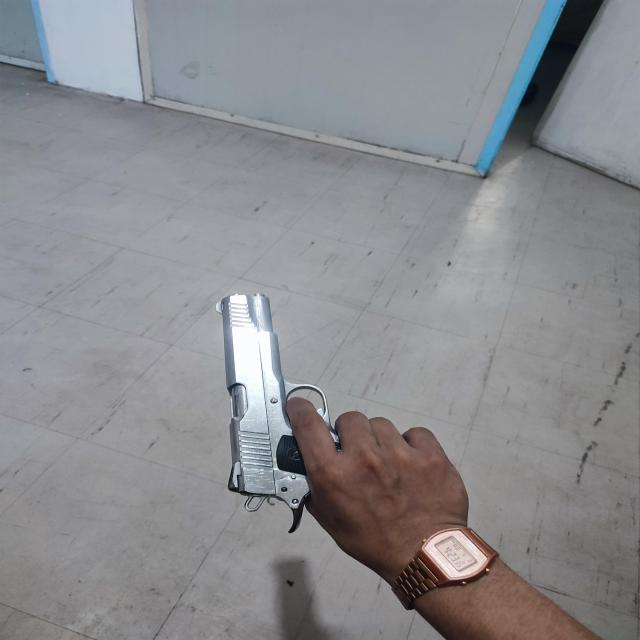pistol: (213, 293, 339, 532)
